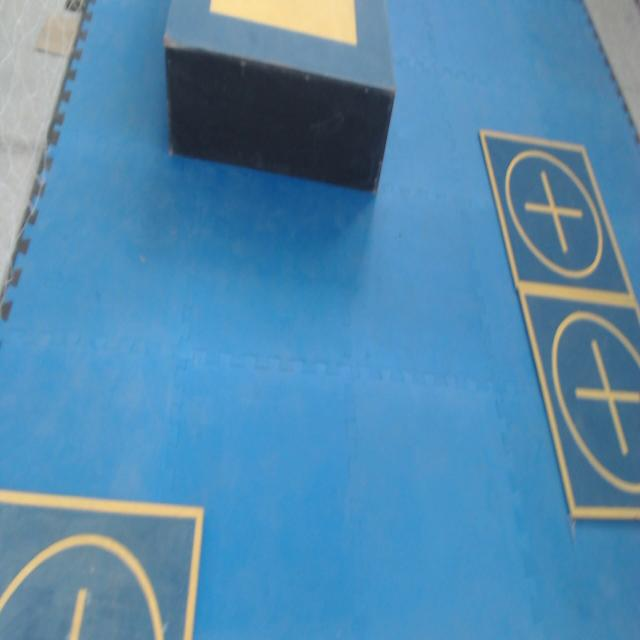base_inicio: (210, 0, 357, 47)
base_pouso: (0, 491, 205, 639), (515, 288, 640, 521), (480, 131, 638, 301)
